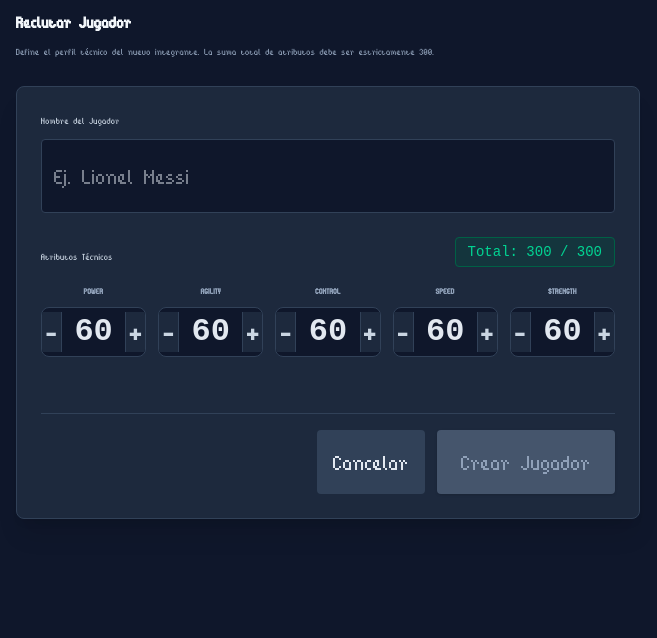
Test case: CreatePlayer View › muestra un mensaje de error y no navega si el backend rechaza la petición
Step 1. Type "Jugador Fallido" into the field labelled "Nombre del Jugador" → (328, 176), box [41,139,615,213]
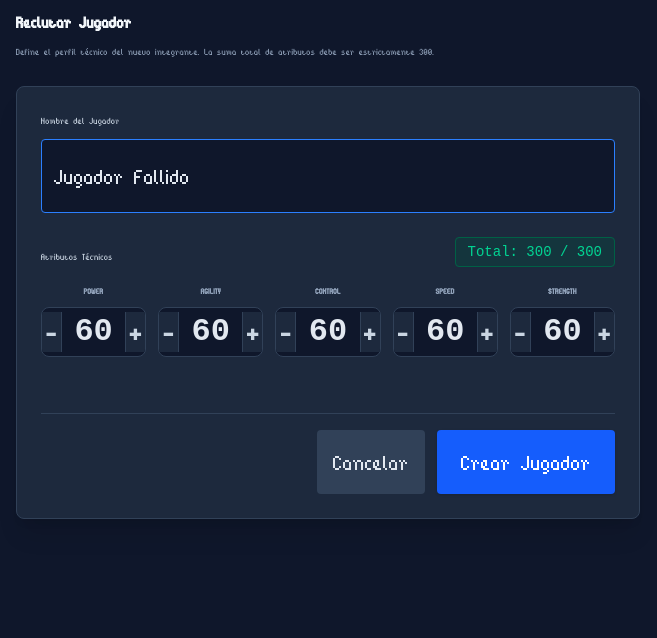
Step 2. Click the button "Crear Jugador" → (526, 462), box [437,430,615,494]
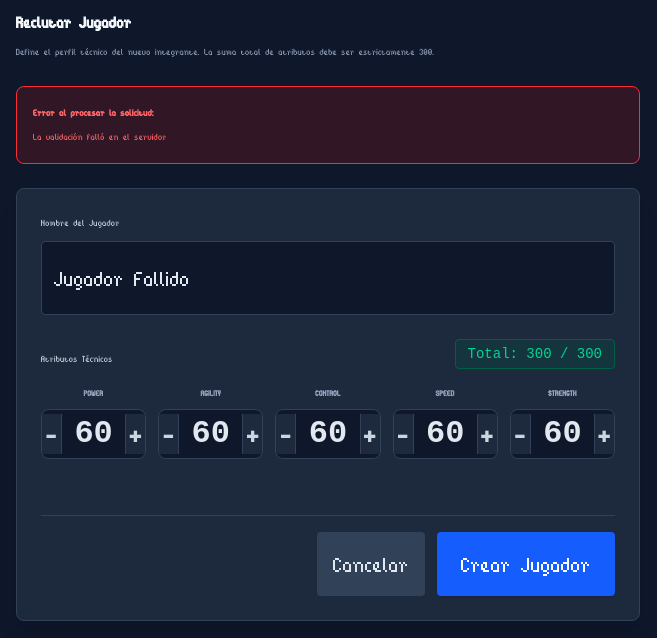
Result: the text "Error al procesar la solicitud:" is shown at [33,106,154,119]
Result: the text "La validación falló en el servidor" is shown at [33,130,167,143]
